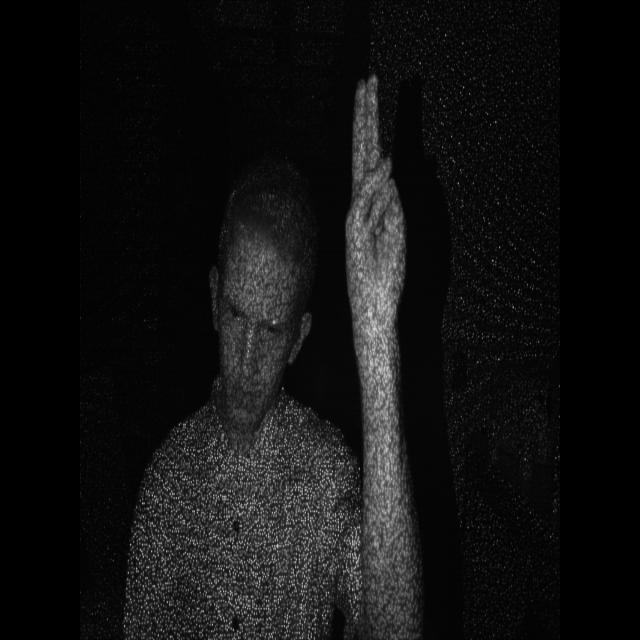U: (336, 52, 416, 332)
